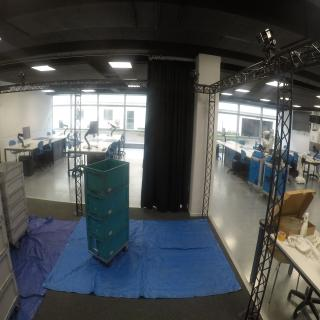BoxB4: (85, 186, 135, 218), (85, 160, 133, 192), (86, 206, 131, 239), (87, 227, 131, 260)
